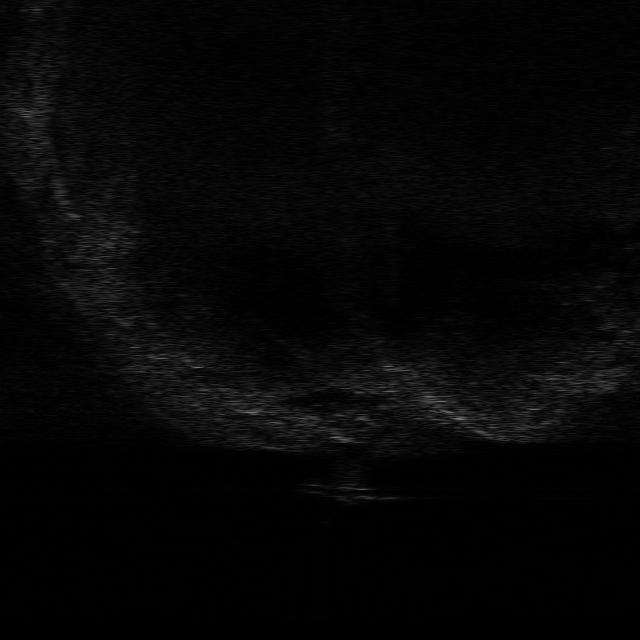plane: (298, 481, 402, 508)
